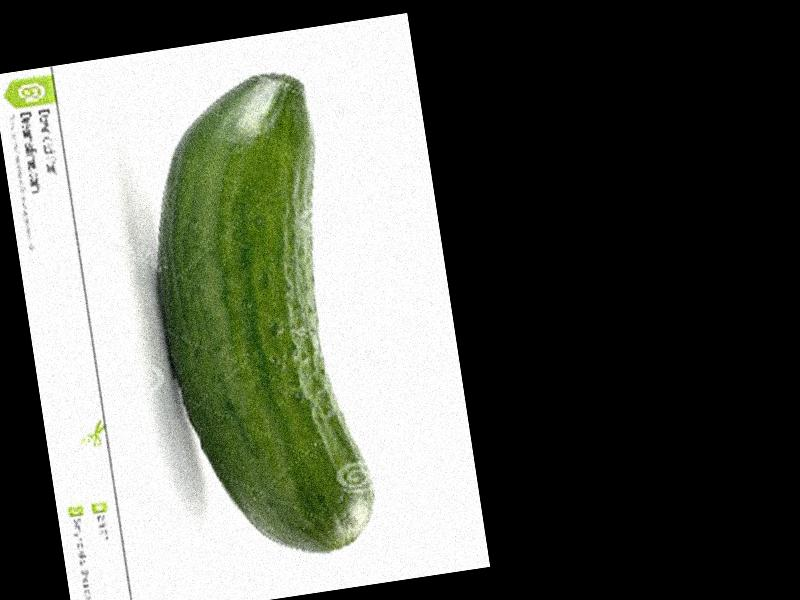Cucumber: (129, 71, 376, 570)
